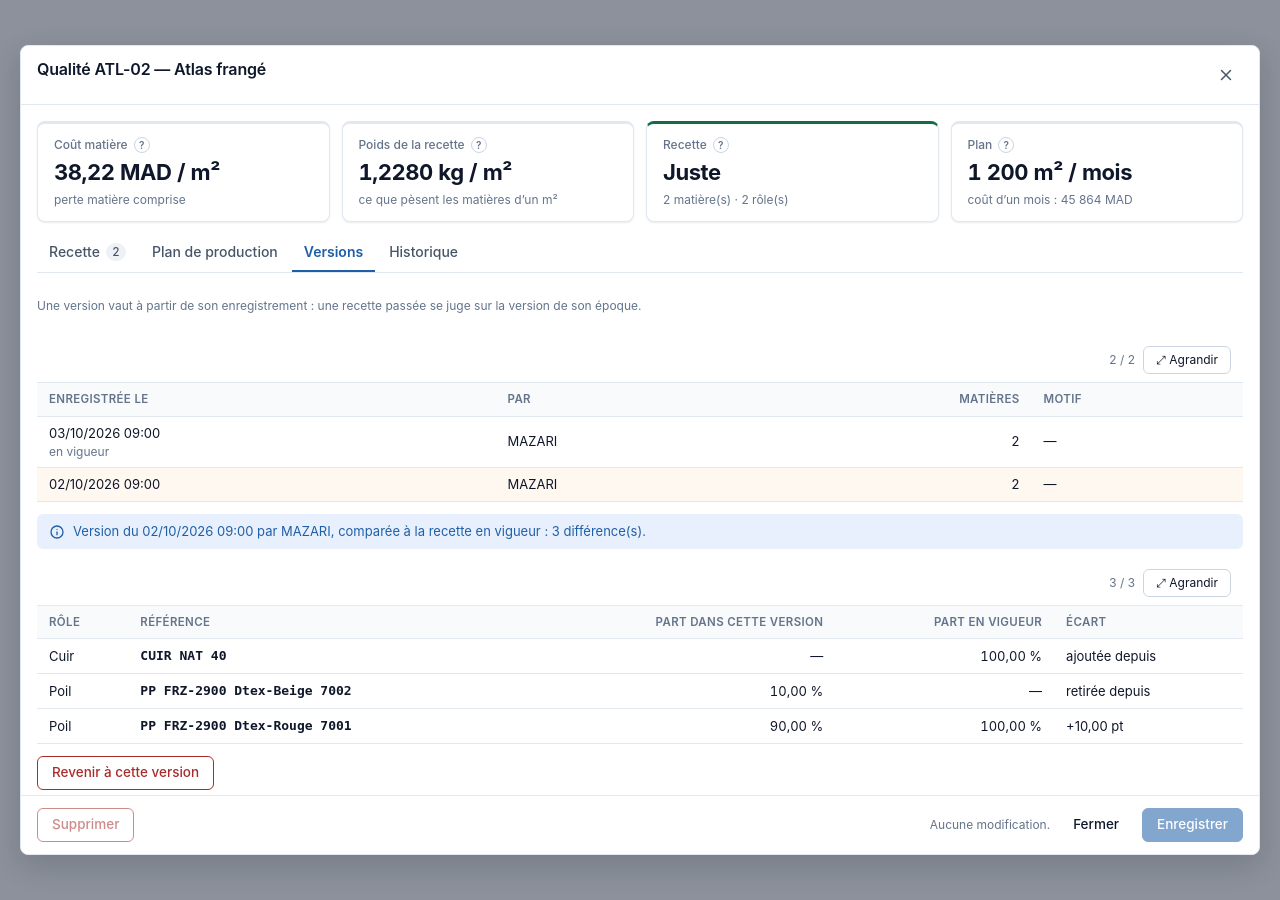
Qualités › revenir à une version : motif exigé, envoyé avec la version de la qualité
The width and height of the screenshot is (1280, 900).
Click the button "Revenir à cette version".
click(126, 773)  # box [37, 756, 214, 790]
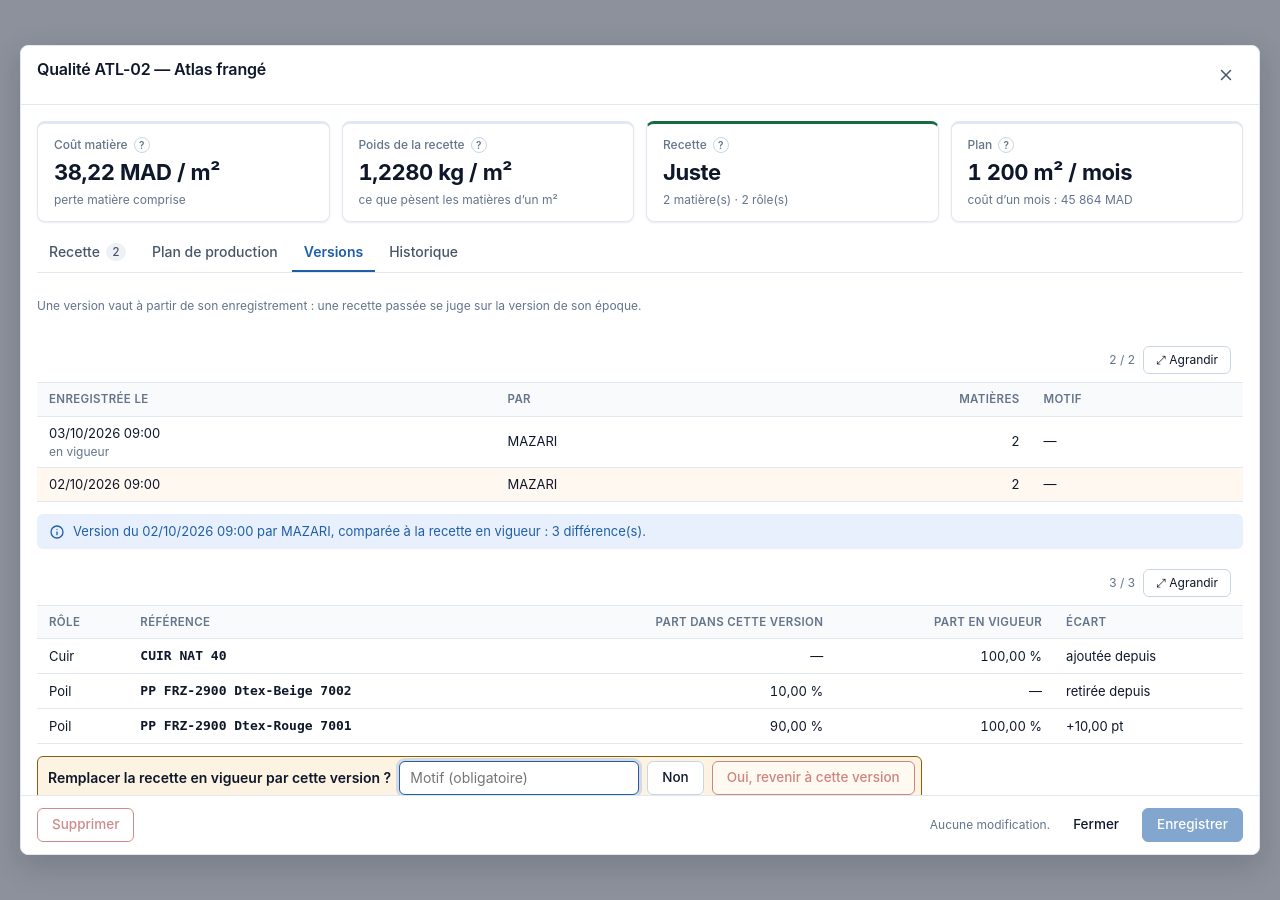
Type "erreur de saisie" into the field labelled "Motif (obligatoire)".
click(519, 778); type("erreur de saisie")  # box [399, 761, 639, 795]
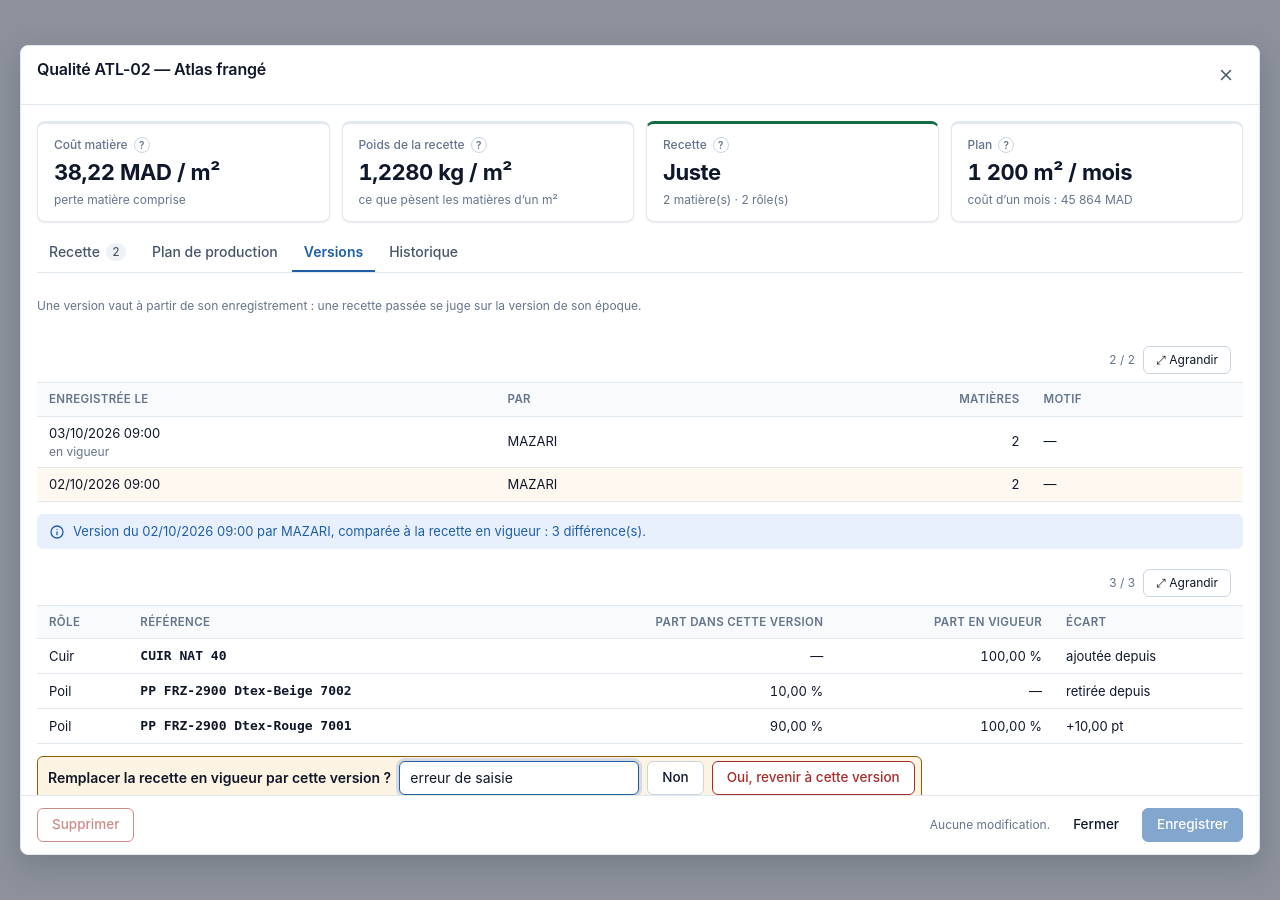
Click the button "Oui, revenir à cette version".
click(813, 778)  # box [712, 761, 915, 795]
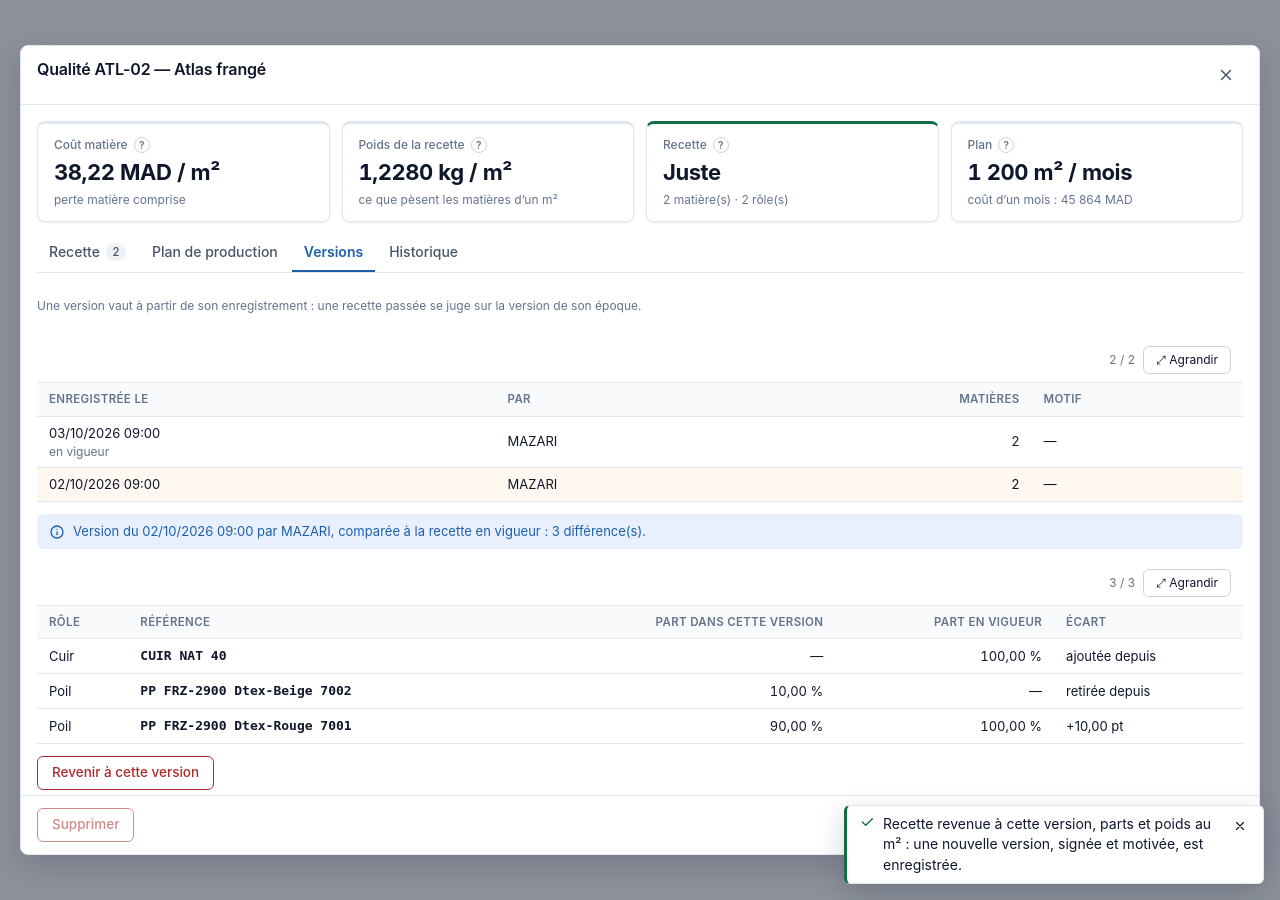
Now the text "Recette revenue à cette version" is shown, box [883, 815, 1211, 873]
